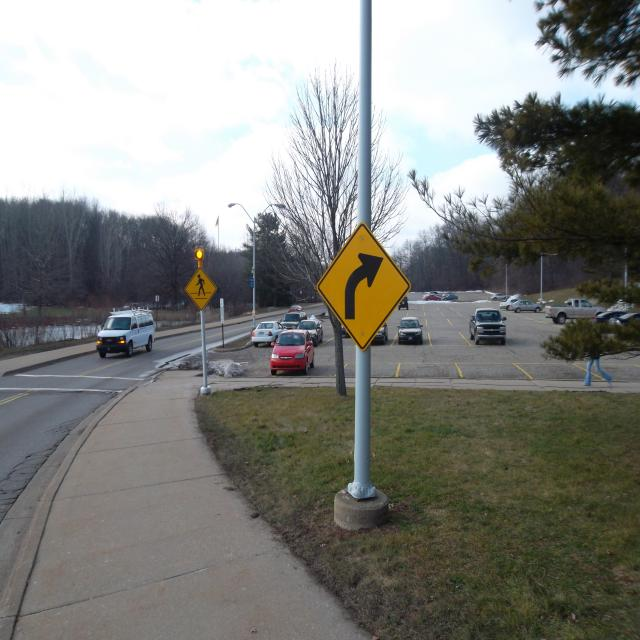warning: (314, 226, 412, 352), (183, 265, 219, 314)
